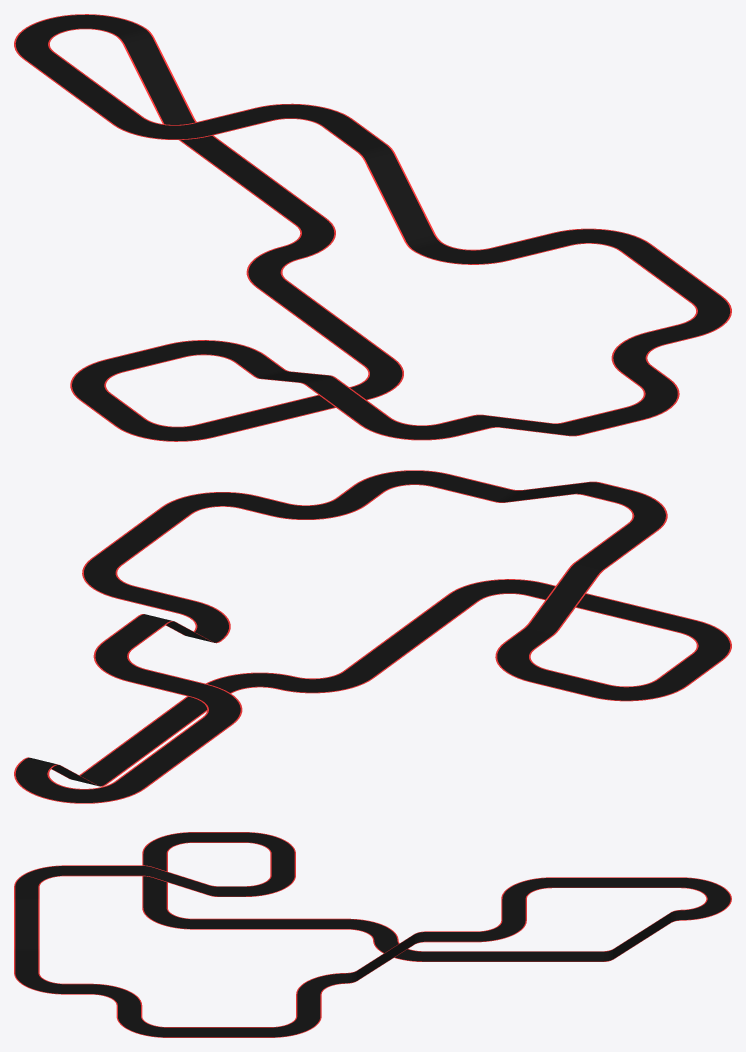
File: Teststrecke_Strae.fbx
The picture shows the model from 3 angles, top to bottom: view 1: azimuth 30°, elevation 25°; view 2: azimuth 150°, elevation 25°; view 3: azimuth 270°, elevation 25°; orthographic projection. The views are drawn at different scales.
Parts seen in each view (by area): view 1: Streckenmodul - Gerade030; view 2: Streckenmodul - Gerade030; view 3: Streckenmodul - Gerade030.
Part boxes in pixels (x1,y1,x2,y2): Streckenmodul - Gerade030: (14,14,731,441); Streckenmodul - Gerade030: (14,470,731,803); Streckenmodul - Gerade030: (14,832,731,1037).
Size of the model in its own units: 7480 by 702 by 11024.
